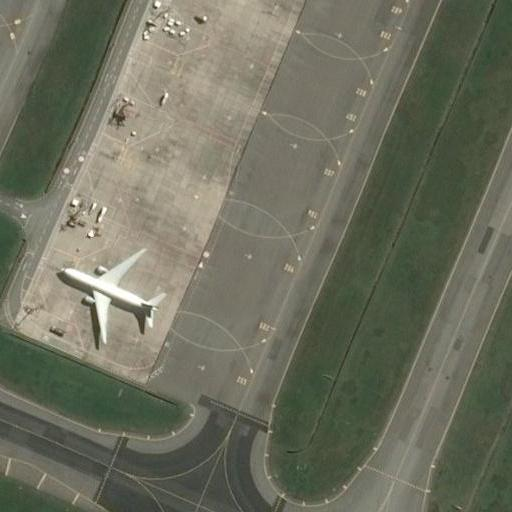Aircraft: (52, 243, 180, 349)
